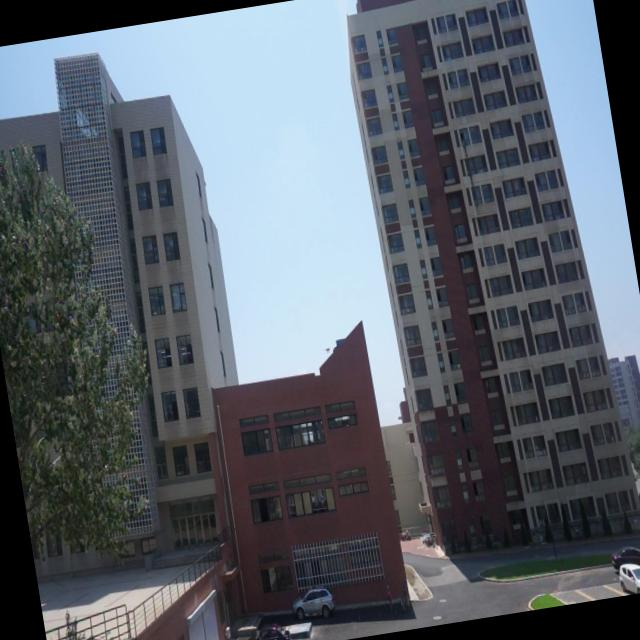drone: (322, 344, 331, 354)
